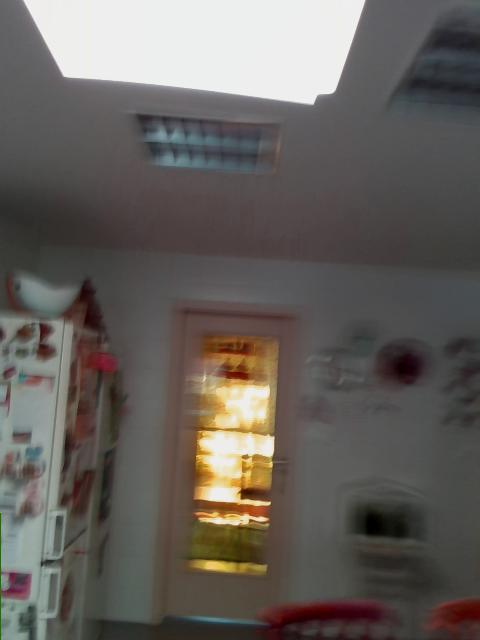closed_door: (151, 293, 307, 620)
